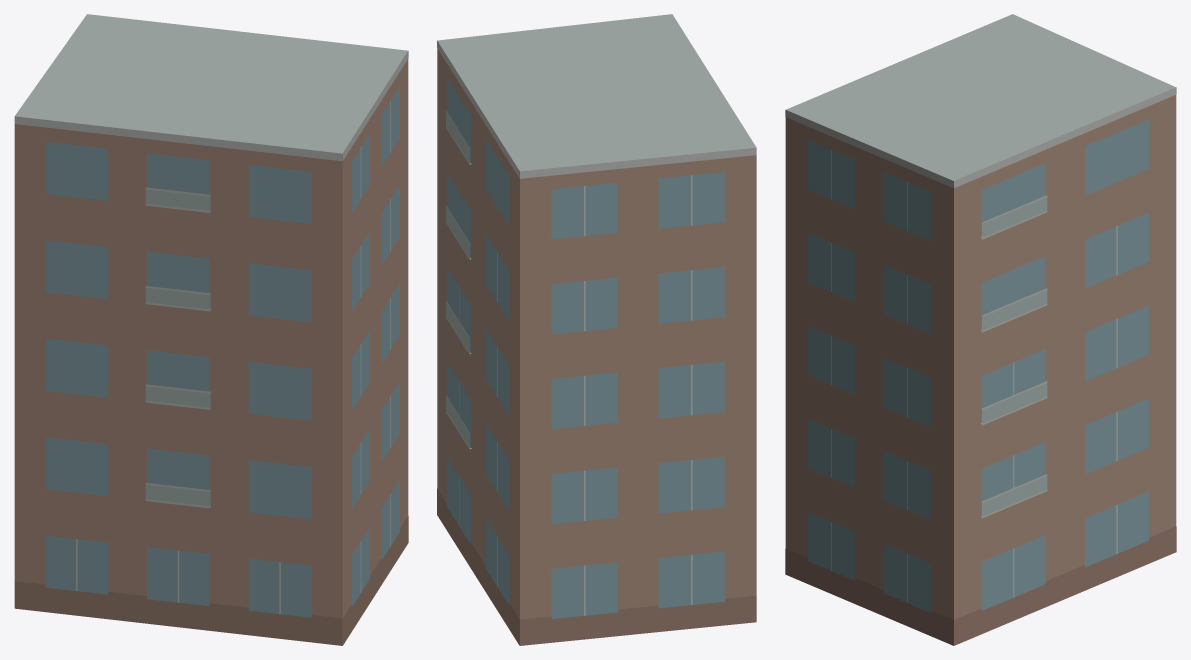
File: survey-upis-33024745.glb
The picture shows the model from 3 angles, left to right: view 1: azimuth 30°, elevation 25°; view 2: azimuth 150°, elevation 25°; view 3: azimuth 270°, elevation 25°; orthographic projection. The views are drawn at different scales.
Visible parts, largest first — view 1: survey-upis-33024745.tmp; view 2: survey-upis-33024745.tmp; view 3: survey-upis-33024745.tmp.
Boxes of the visible parts, left/top/right/bottom form: survey-upis-33024745.tmp: left=14, top=14, right=408, bottom=645; survey-upis-33024745.tmp: left=437, top=14, right=756, bottom=645; survey-upis-33024745.tmp: left=785, top=14, right=1176, bottom=645.
Size of the model in its own units: 12.09 by 15.67 by 11.95.
